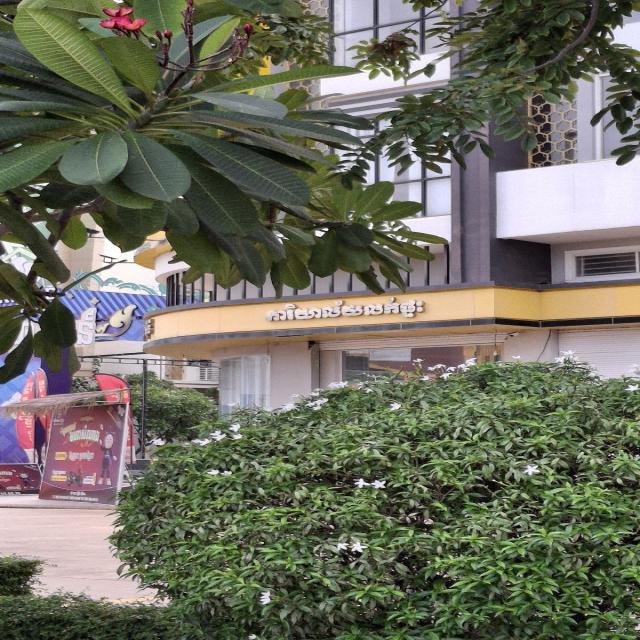Yolov11_80vkh: (247, 290, 436, 332)
